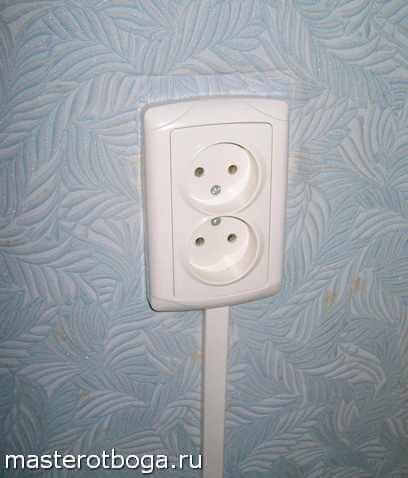raccoon: (184, 137, 260, 212), (184, 215, 259, 280)
